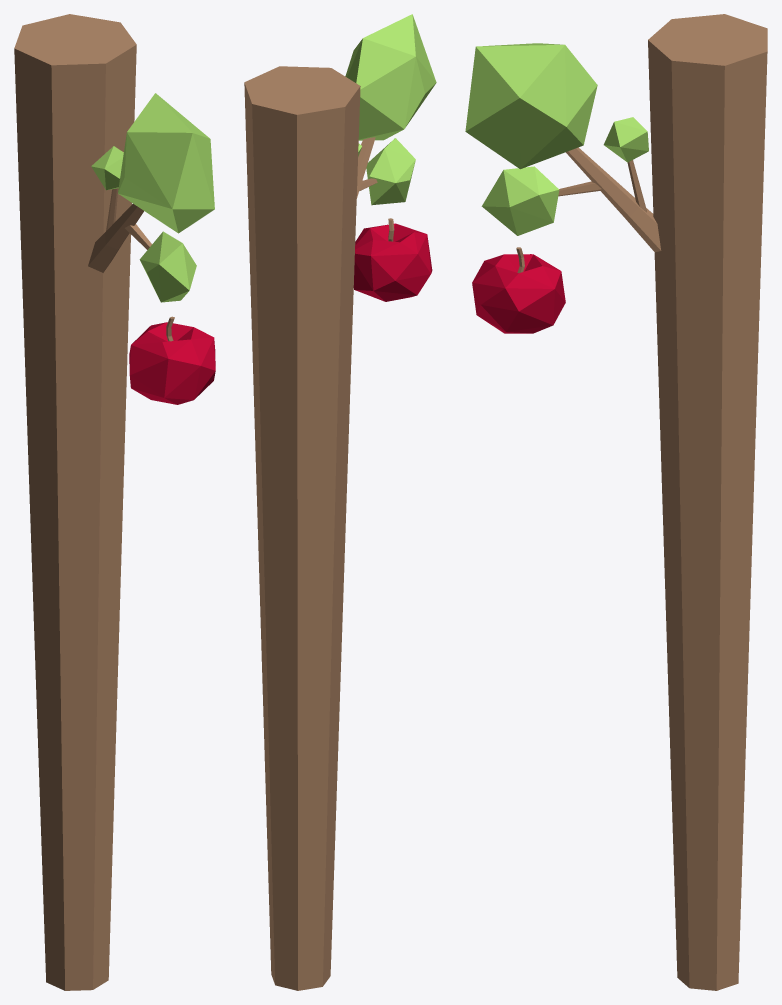
The model's file is treebat3.fbx.
The picture shows the model from 3 angles, left to right: view 1: azimuth 30°, elevation 25°; view 2: azimuth 150°, elevation 25°; view 3: azimuth 270°, elevation 25°; orthographic projection. The views are drawn at different scales.
Visible parts, largest first — view 1: BaseColor-material.009, LeafColor-material.004, Material_002-material; view 2: BaseColor-material.009, LeafColor-material.004, Material_002-material; view 3: BaseColor-material.009, LeafColor-material.004, Material_002-material.
Part boxes in pixels (<box>): BaseColor-material.009: <box>14,14,151,990</box>; LeafColor-material.004: <box>91,93,214,302</box>; Material_002-material: <box>129,322,215,404</box>; BaseColor-material.009: <box>244,66,377,990</box>; LeafColor-material.004: <box>345,14,436,205</box>; Material_002-material: <box>353,223,432,301</box>; BaseColor-material.009: <box>558,14,767,990</box>; LeafColor-material.004: <box>465,43,648,235</box>; Material_002-material: <box>472,254,565,333</box>.
Bounding box in the file's own units: 82.73 × 697 × 204.
